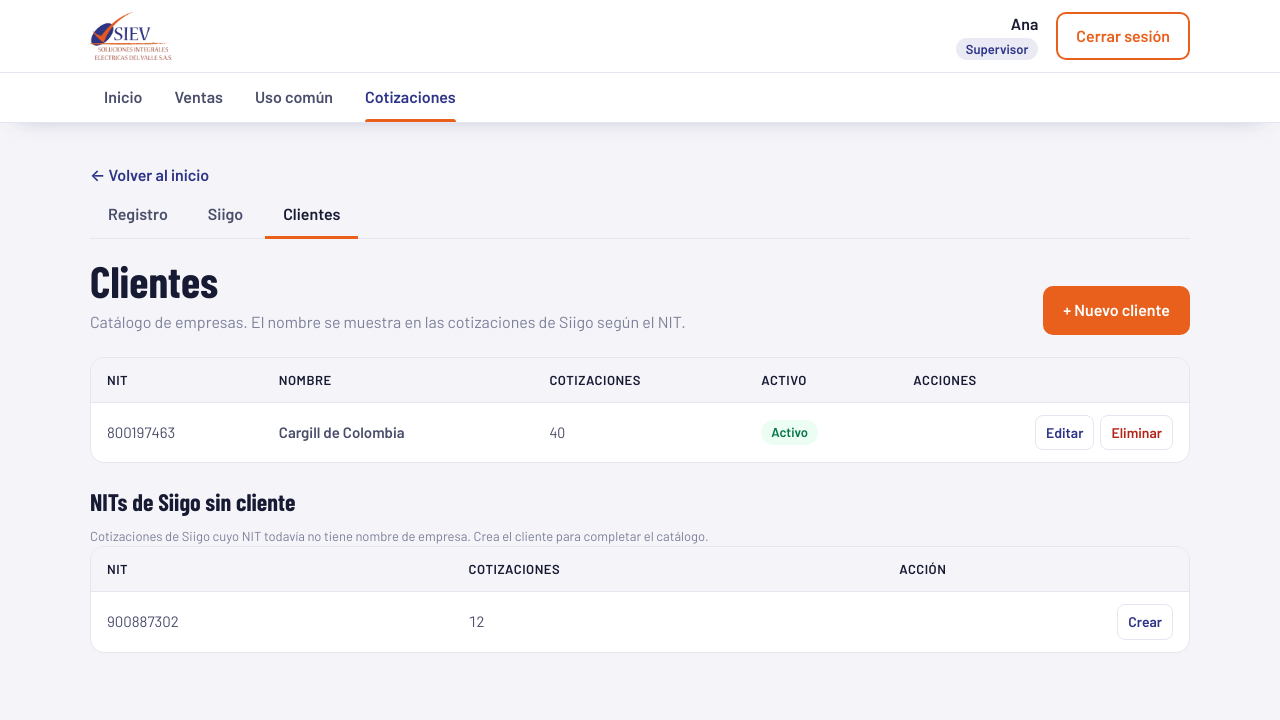
Test: clientes › crear: 201 refresca la lista
Step 1. Click the button with aria-label "Crear cliente con NIT" → [1145, 622], box [1117,604,1173,640]
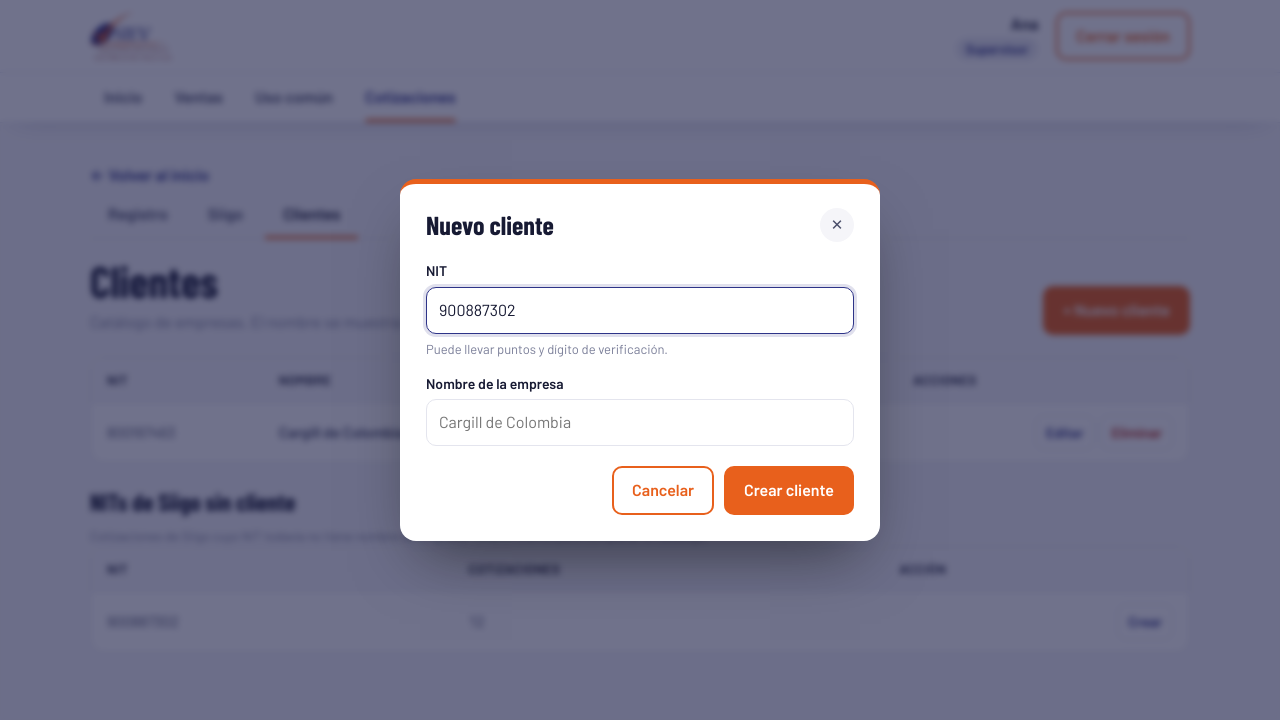
Check: the field labelled "NIT" holds "900887302", box [426,287,854,334]
Step 2. Type "Savicol" into the field labelled "Nombre de la empresa" → [640, 423], box [426,399,854,446]
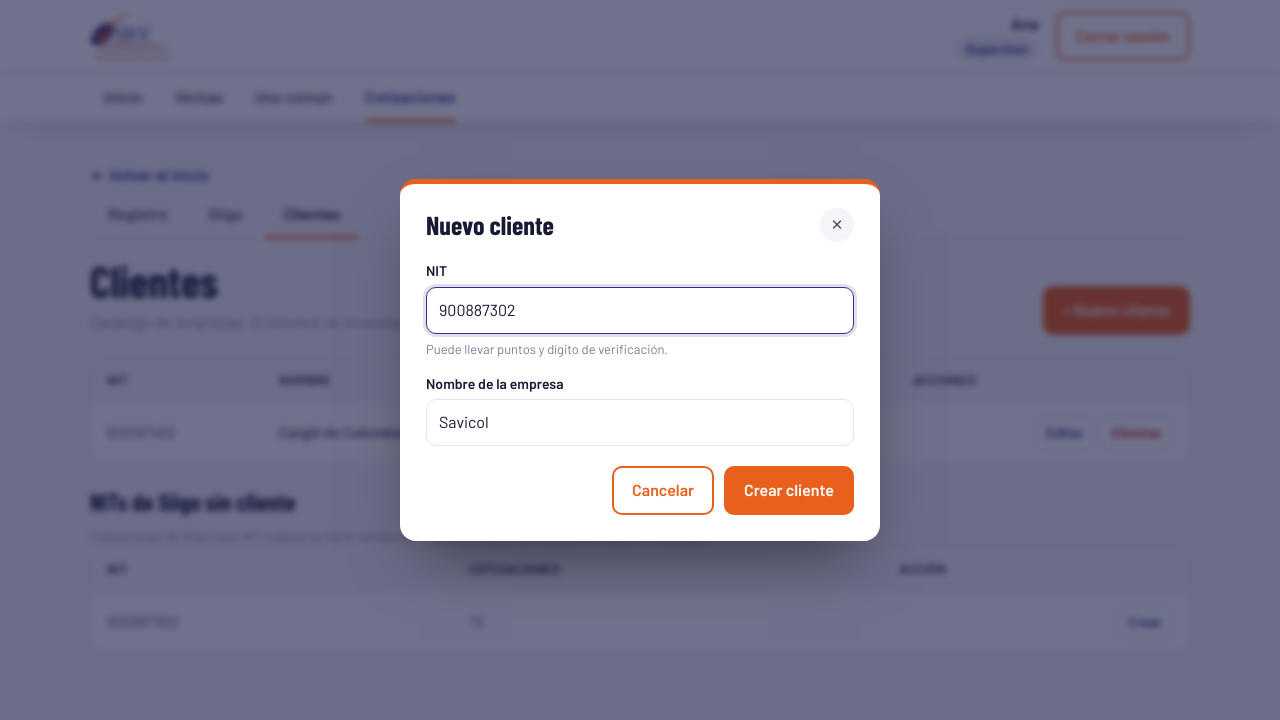
Step 3. Click the button "Crear cliente" → [789, 491], box [724,466,854,515]
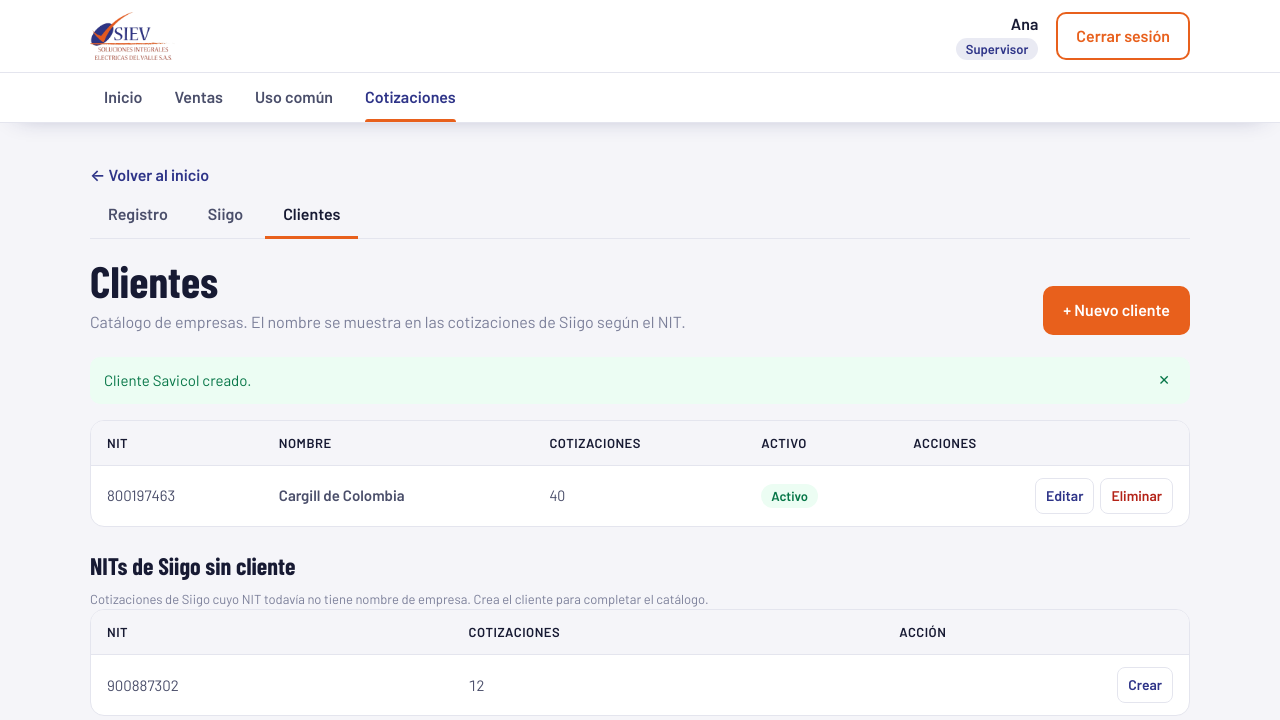
Check: the text "Cliente Savicol creado." is shown, box [104,369,252,392]
Check: the dialog is gone
